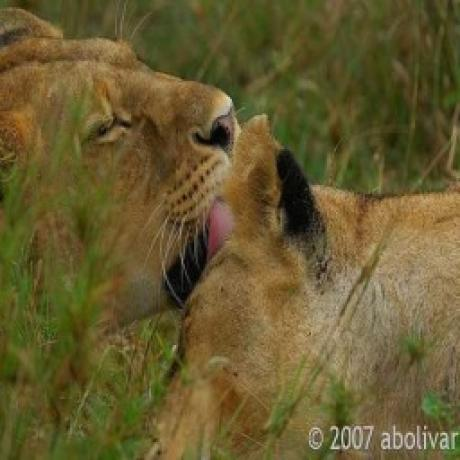Lion: (152, 111, 460, 459), (0, 5, 237, 317)
